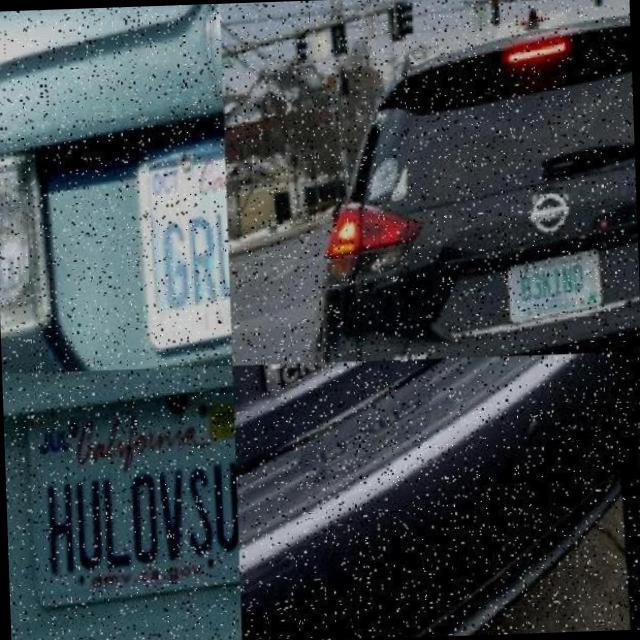License Plate: (15, 379, 241, 623), (132, 118, 232, 354), (510, 252, 608, 328)
